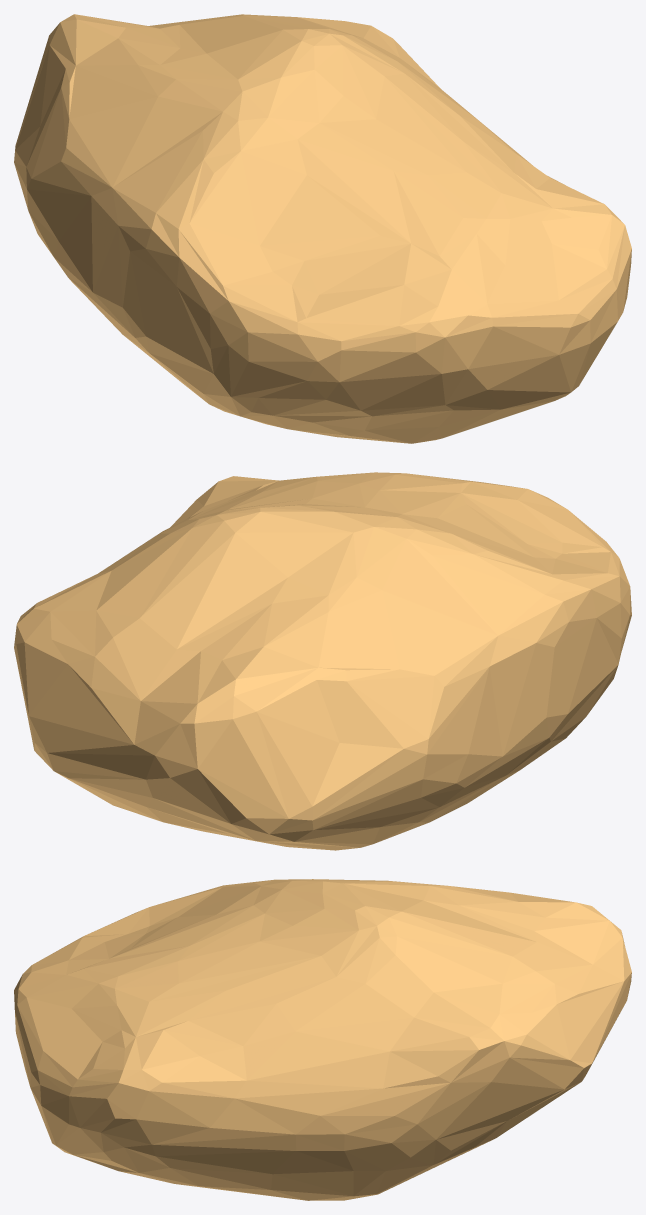
The model's file is Rock 04.FBX.
3 views of the same model, one above another, from view 1: azimuth 30°, elevation 25°; view 2: azimuth 150°, elevation 25°; view 3: azimuth 270°, elevation 25° (orthographic). The views are drawn at different scales.
Parts seen in each view (by area): view 1: cube; view 2: cube; view 3: cube.
Part boxes in pixels (x1=…): cube: x1=14, y1=14, x2=631, y2=443; cube: x1=14, y1=472, x2=631, y2=850; cube: x1=14, y1=879, x2=631, y2=1200.
Size of the model in its own units: 60.99 by 41.31 by 92.86.
